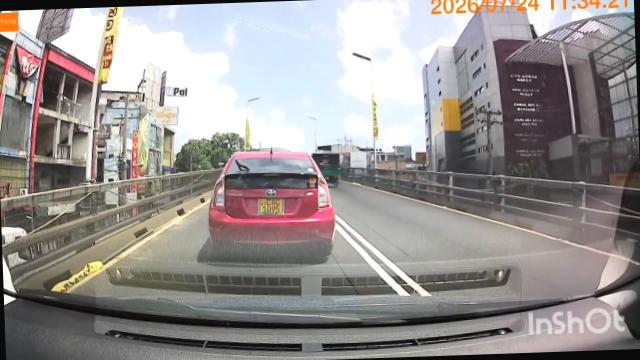number plate: (255, 196, 288, 218)
